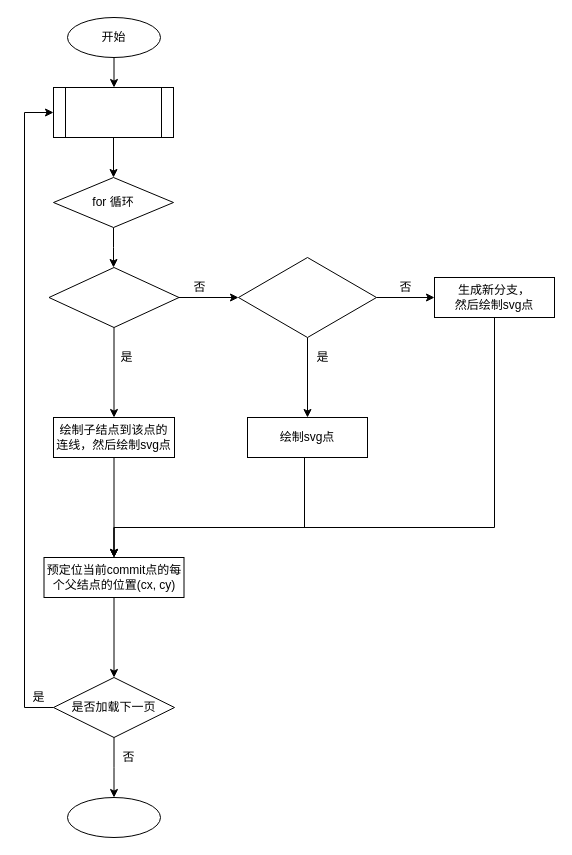
Image size: 572x855. Some labels were removed from this diagram. The box of each missing label's shape, as (x1, y1, x2, y2) in pixels:
当前cimmit点 是否存在: (48, 266, 179, 328)
当前commit点不存在，但是它的父结点已存在: (238, 256, 376, 338)
结束: (66, 796, 160, 838)
获取 comits 数据: (52, 86, 174, 138)
